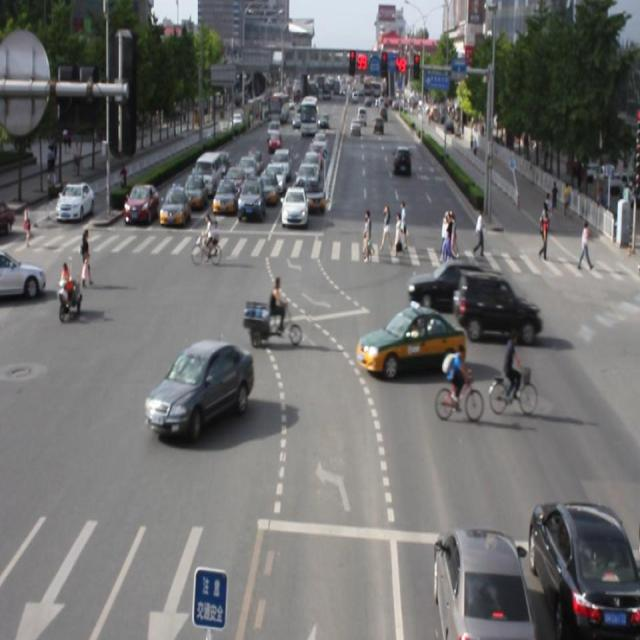car: (523, 495, 640, 640), (429, 524, 530, 640), (144, 338, 254, 441), (358, 305, 463, 379), (455, 268, 540, 341), (407, 258, 496, 317)
